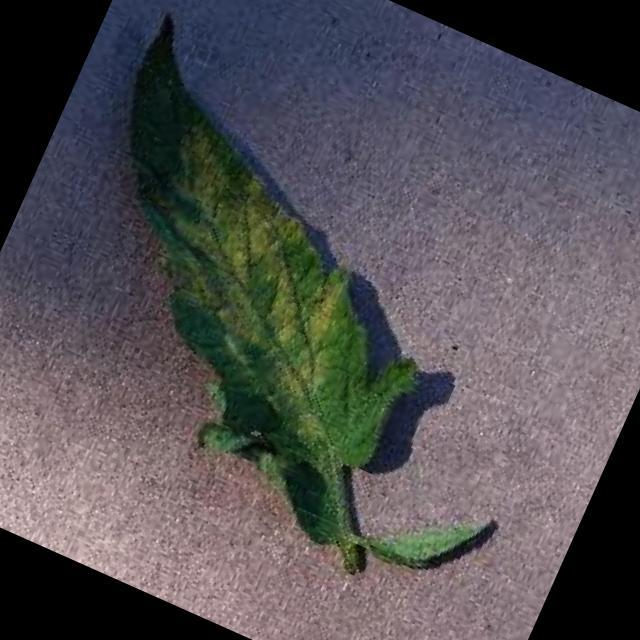Tomato mold leaf: (0, 11, 509, 554)
